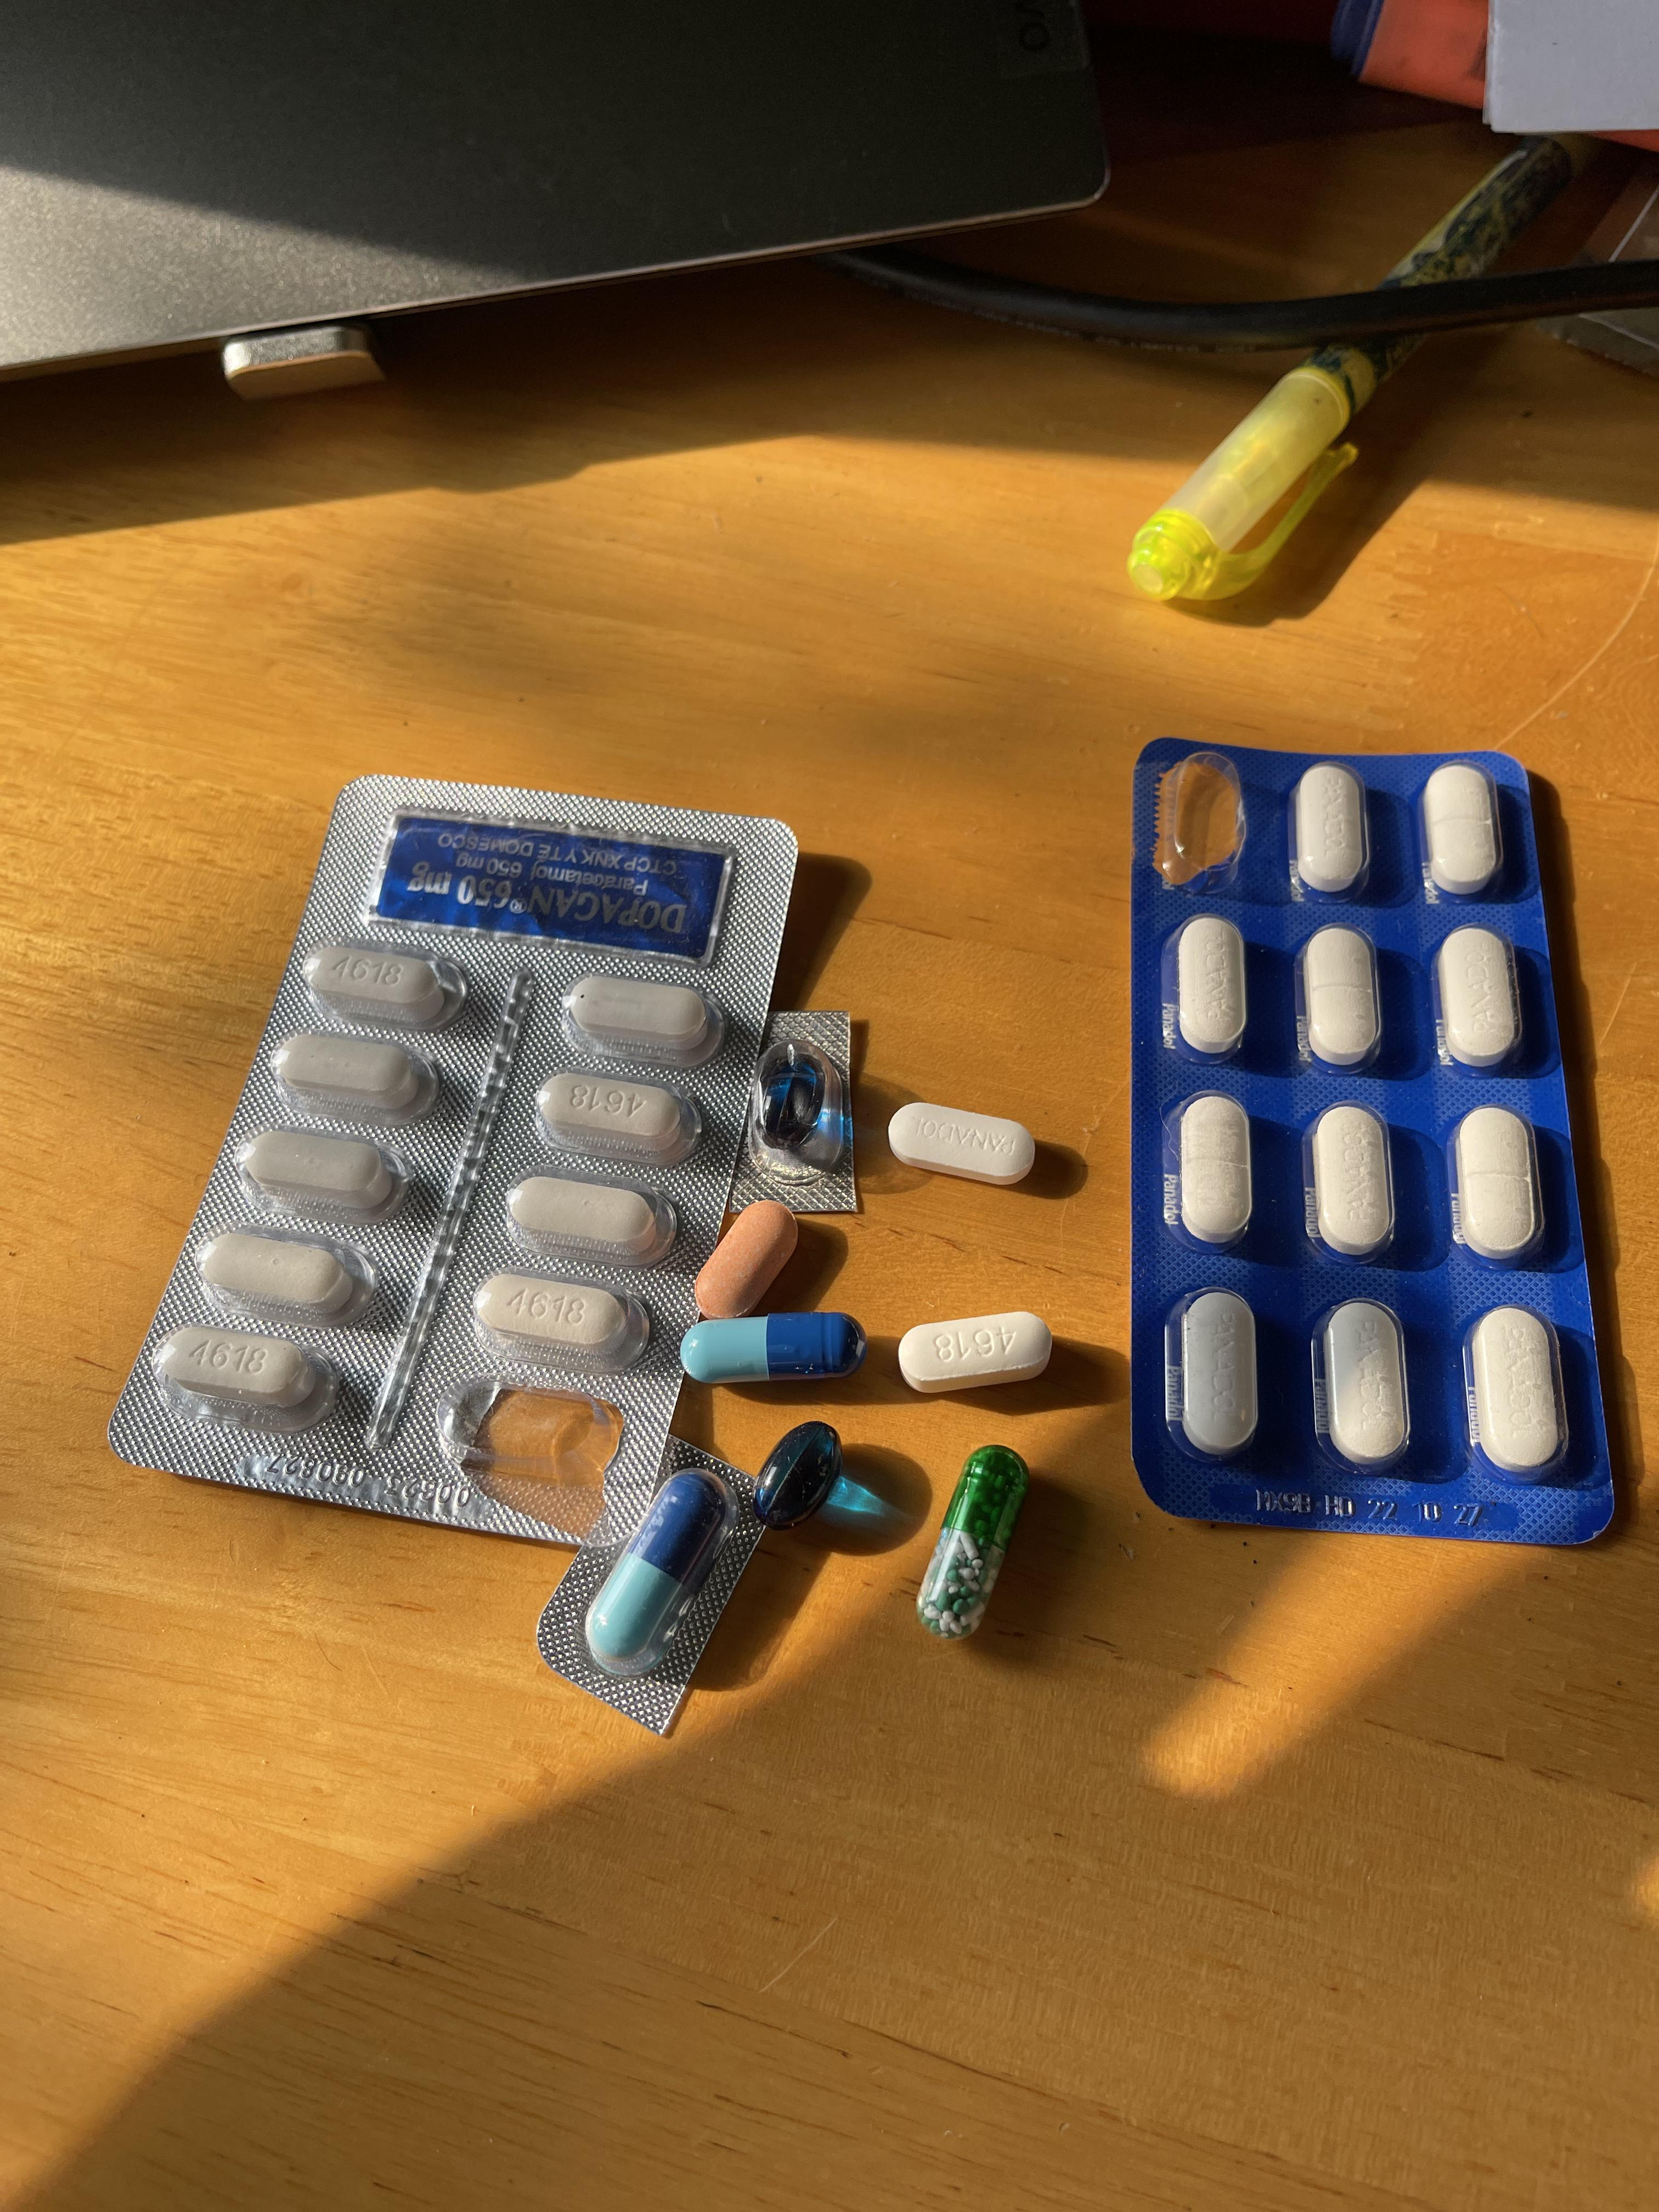Lincomyxin_500mg: (758, 1425, 842, 1522), (763, 1062, 823, 1137)
Loratadine_10mg: (692, 1200, 796, 1317)
Paracetamol_350mg: (1469, 1306, 1565, 1475), (1321, 1299, 1408, 1467), (1452, 1104, 1541, 1261), (1307, 1103, 1394, 1256), (1178, 1291, 1256, 1456), (1434, 925, 1520, 1068), (887, 1103, 1035, 1184), (1300, 925, 1382, 1068), (1176, 1092, 1253, 1244), (1419, 758, 1499, 895), (1291, 761, 1368, 894), (1173, 916, 1244, 1052)
Paracetamol_500mg: (239, 1123, 403, 1221), (159, 1324, 317, 1421), (199, 1228, 362, 1318), (274, 1029, 432, 1122), (538, 1071, 695, 1162), (307, 941, 458, 1031), (472, 1271, 633, 1357), (565, 974, 718, 1062), (505, 1174, 664, 1259), (897, 1306, 1060, 1388)
Paracetamol_650mg: (925, 1446, 1026, 1637)
pill: (586, 1467, 725, 1674), (681, 1315, 859, 1379)
